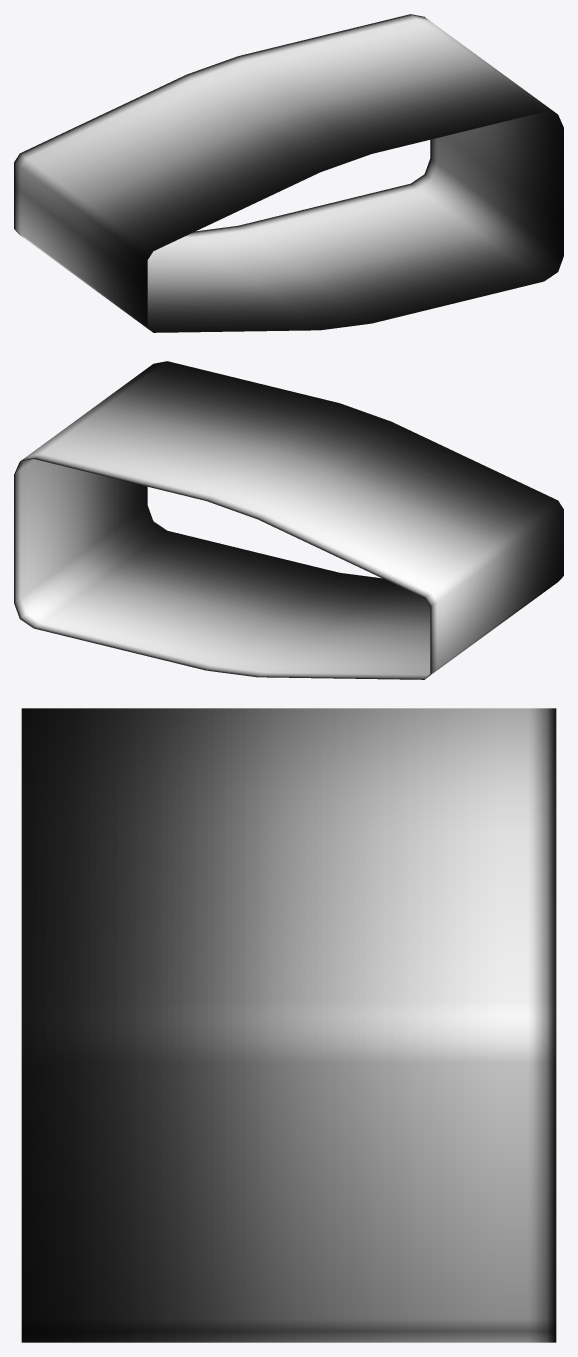
The model's file is ship exshust.fbx.
The picture shows the model from 3 angles, top to bottom: view 1: azimuth 30°, elevation 25°; view 2: azimuth 150°, elevation 25°; view 3: azimuth 270°, elevation 25°; orthographic projection. The views are drawn at different scales.
Parts seen in each view (by area): view 1: ship_fx_01; view 2: ship_fx_01; view 3: ship_fx_01.
Part boxes in pixels (x1=…): ship_fx_01: x1=14, y1=14, x2=563, y2=332; ship_fx_01: x1=14, y1=361, x2=563, y2=679; ship_fx_01: x1=21, y1=708, x2=556, y2=1342.
Bounding box in the file's own units: 360 × 140 × 200.
Materials: 1 (1 with a texture image).
